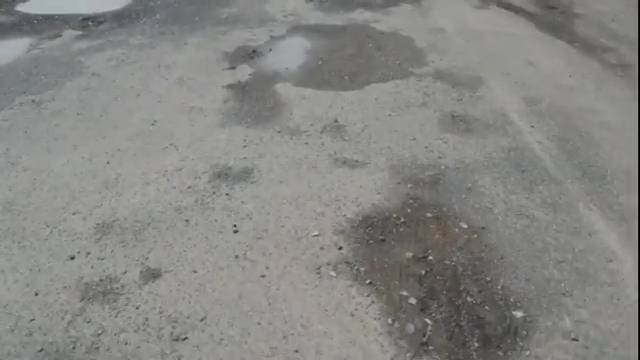pothole: (212, 169, 520, 360)
